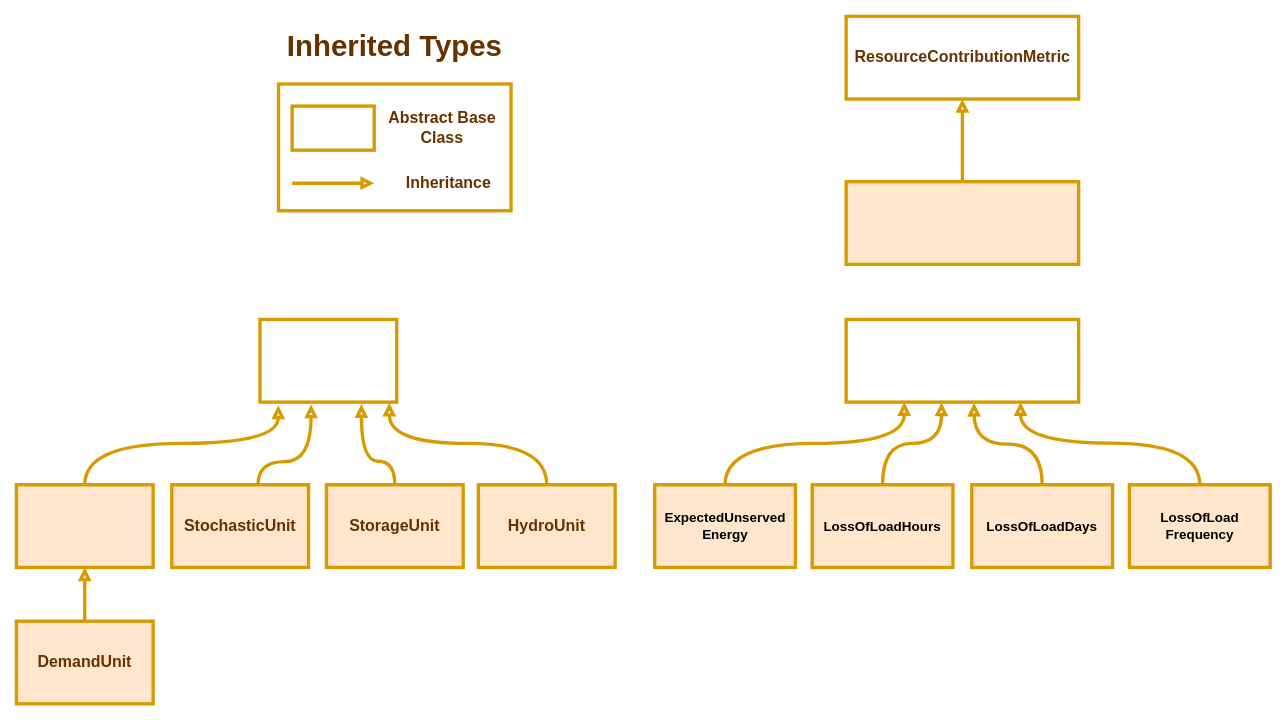
This 1286x720 diagram has some shape labels left out. Here are the shapes that lost their labels. From the top down, the centre of each, then its label:
At point 962,223: "EffectiveLoadCarrying Capability".
At point 328,360: "EnergyUnit".
At point 962,360: "ResourceAdequacyMetric".
At point 84,526: "StaticUnit".
